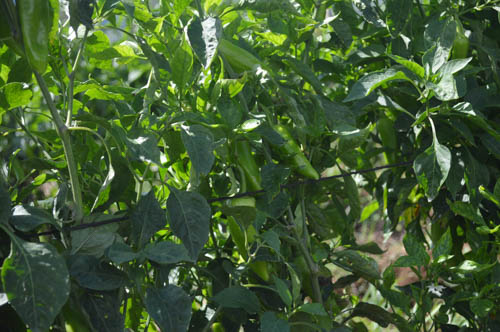ChiliPepper: (269, 125, 320, 178), (229, 216, 268, 276), (17, 3, 47, 75), (233, 142, 263, 192), (376, 118, 397, 168)
